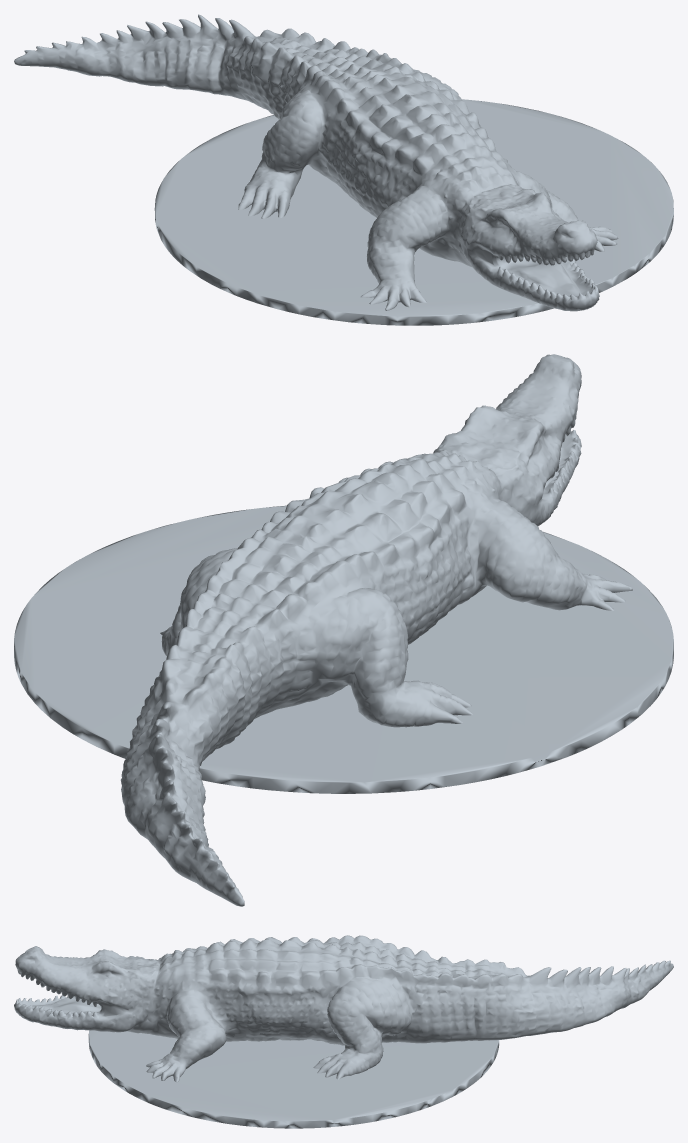
The model's file is giant-crocodile.glb.
3 views of the same model, one above another, from view 1: azimuth 30°, elevation 25°; view 2: azimuth 150°, elevation 25°; view 3: azimuth 270°, elevation 25° (orthographic). The views are drawn at different scales.
Visible parts, largest first — view 1: Giant_Crocodile.001; view 2: Giant_Crocodile.001; view 3: Giant_Crocodile.001.
Part boxes in pixels (bbox=[...]): Giant_Crocodile.001: bbox=[14, 14, 673, 325]; Giant_Crocodile.001: bbox=[14, 354, 673, 906]; Giant_Crocodile.001: bbox=[14, 935, 673, 1128].
Bounding box in the file's own units: 75.75 × 20.06 × 122.
Materials: 1 (1 with a texture image).
